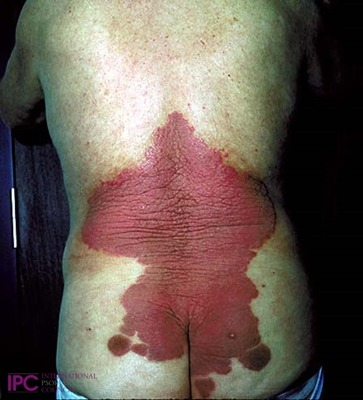Psoriasis: (77, 112, 282, 375), (190, 372, 226, 400), (104, 333, 136, 360)
